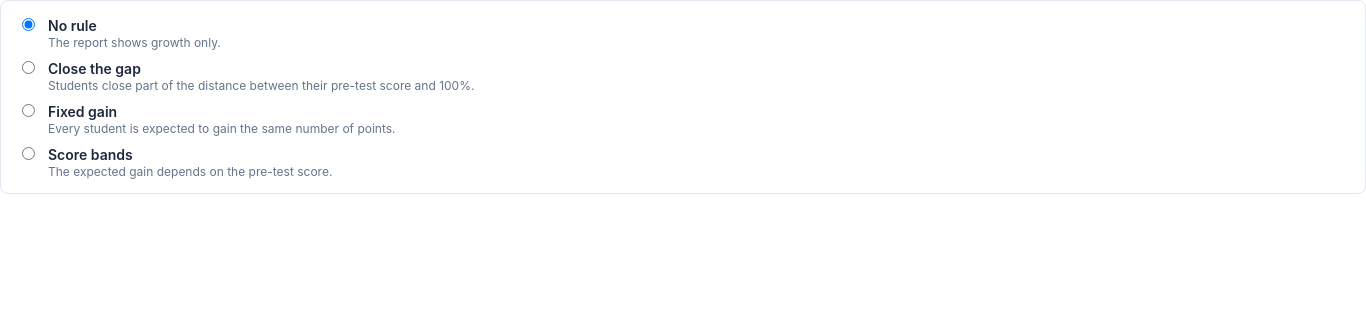
choosing "Close the gap" sends the default rule and shows the preview
The width and height of the screenshot is (1366, 318).
Click the radio button labelled "Close the gap". click: (28, 68)
box: [22,61,35,74]
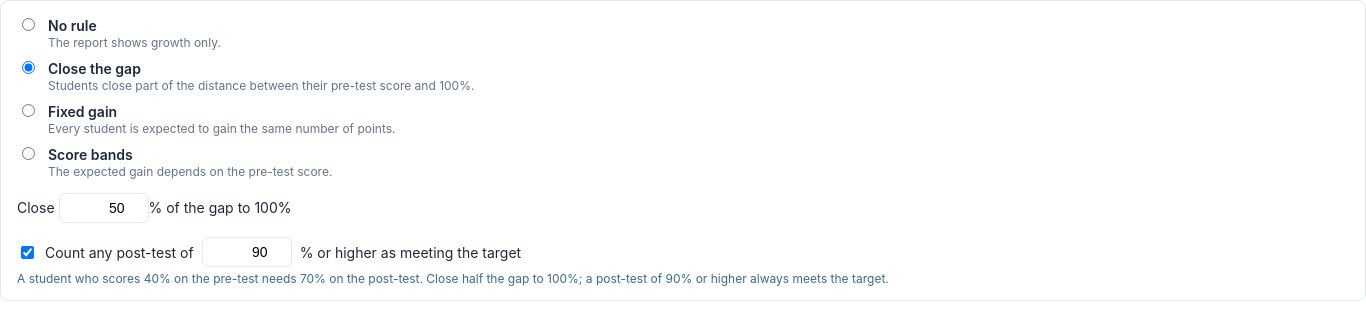
Expected: the text "needs 70% on the post-test" is shown, [17,271,423,286]
